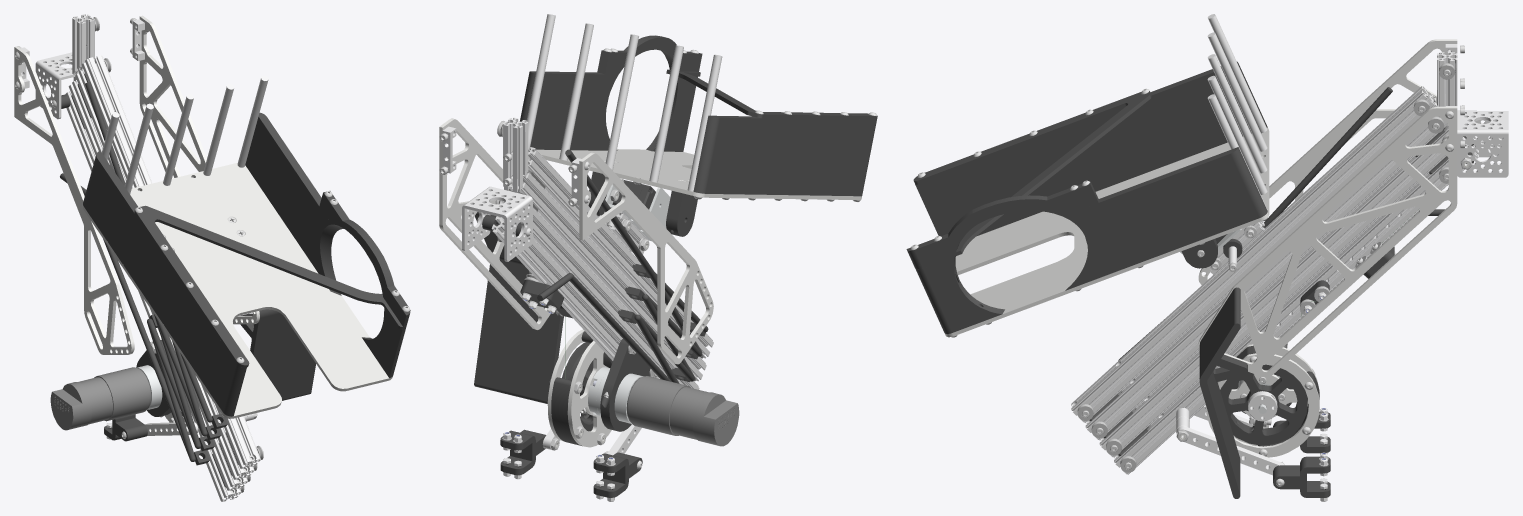
The model's file is roverruckus-lift.glb.
The picture shows the model from 3 angles, left to right: view 1: azimuth 30°, elevation 25°; view 2: azimuth 150°, elevation 25°; view 3: azimuth 270°, elevation 25°; orthographic projection. The views are drawn at different scales.
Parts seen in each view (by area): view 1: 6-32 Washer v3, 91251A268(Mirror) (1), Wiring Guide v13, REV-41-1520, 90666A100; view 2: 91251A268(Mirror) (1), 6-32 Washer v3, 90666A100, Wiring Guide v13, REV-41-1520; view 3: 6-32 Washer v3, 91251A268(Mirror) (1), Wiring Guide v13, REV-41-1520, 90666A100.
Boxes of the visible parts, box(x1,y1,x2,y2) form: 6-32 Washer v3: box(82, 75, 410, 418); 91251A268(Mirror) (1): box(14, 14, 315, 501); Wiring Guide v13: box(81, 55, 263, 468); REV-41-1520: box(68, 80, 250, 490); 90666A100: box(75, 69, 257, 479); 91251A268(Mirror) (1): box(439, 117, 739, 501); 6-32 Washer v3: box(519, 14, 877, 254); 90666A100: box(509, 171, 706, 381); Wiring Guide v13: box(528, 147, 713, 358); REV-41-1520: box(495, 190, 699, 389); 6-32 Washer v3: box(906, 14, 1269, 337); 91251A268(Mirror) (1): box(1114, 39, 1508, 501); Wiring Guide v13: box(1071, 86, 1435, 422); REV-41-1520: box(1099, 125, 1464, 457); 90666A100: box(1085, 103, 1447, 440).
Size of the model in its own units: 0.2237 by 0.3416 by 0.4473.
5 materials, 5 textured.
